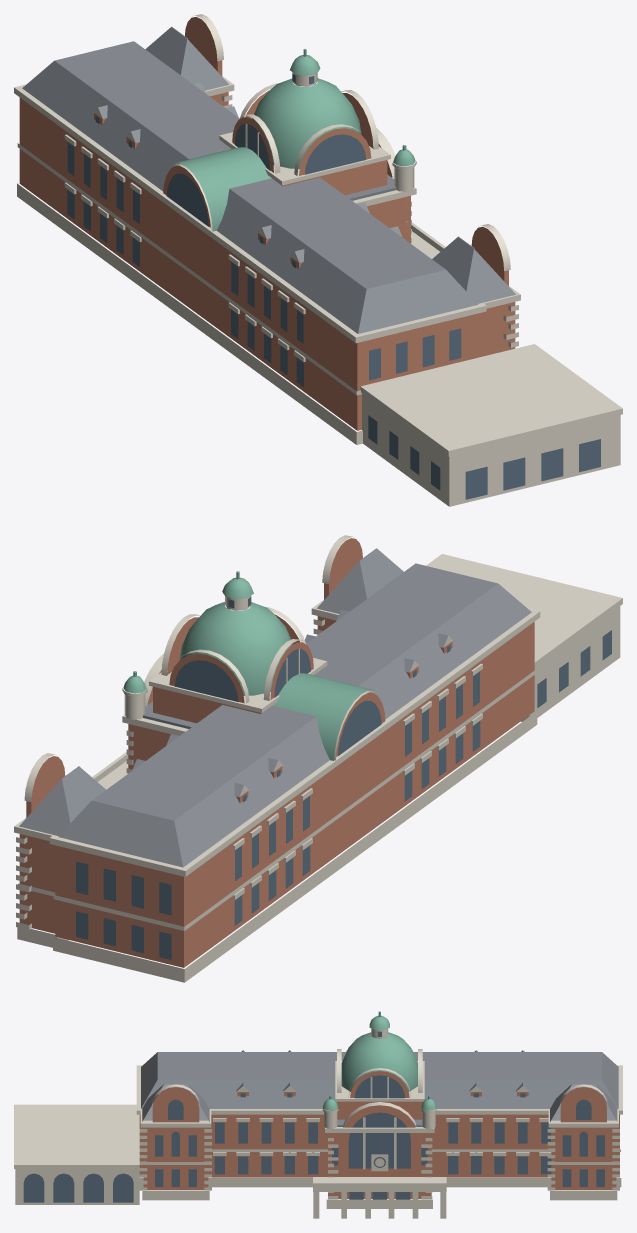
File: seoul-culture-station-284.glb
3 views of the same model, one above another, from view 1: azimuth 30°, elevation 25°; view 2: azimuth 150°, elevation 25°; view 3: azimuth 270°, elevation 25° (orthographic). The views are drawn at different scales.
Visible parts, largest first — view 1: Culture Station Seoul 284; view 2: Culture Station Seoul 284; view 3: Culture Station Seoul 284.
Boxes of the visible parts, x1,y1,x2,y2 form: Culture Station Seoul 284: (14,14,622,506); Culture Station Seoul 284: (14,535,622,982); Culture Station Seoul 284: (14,1011,622,1218).
Size of the model in its own units: 27.95 by 29.5 by 94.05.
